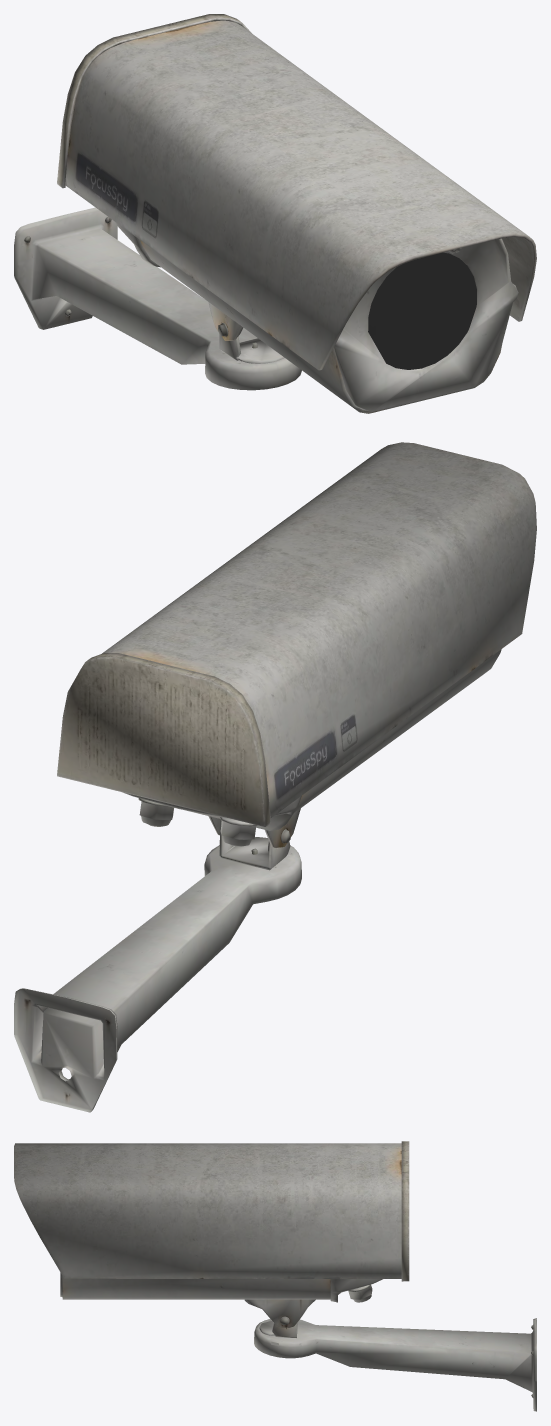
Rendered from security_camera_01.glb.
3 renders of one model, top to bottom at view 1: azimuth 30°, elevation 25°; view 2: azimuth 150°, elevation 25°; view 3: azimuth 270°, elevation 25°, orthographic. The views are drawn at different scales.
Parts seen in each view (by area): view 1: security_camera_01; view 2: security_camera_01; view 3: security_camera_01.
Boxes of the visible parts, x1,y1,x2,y2 form: security_camera_01: (14, 14, 536, 413); security_camera_01: (14, 442, 536, 1112); security_camera_01: (14, 1141, 536, 1411).
Bounding box in the file's own units: 0.1696 × 0.2854 × 0.5536.
2 materials, 2 textured.
